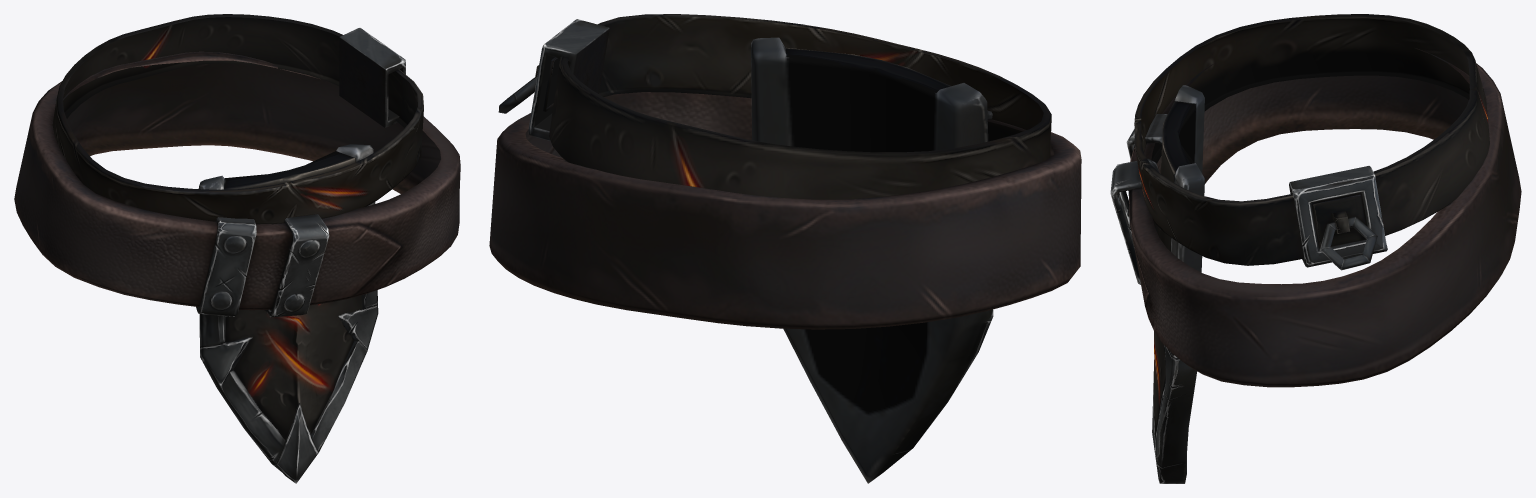
Rendered from SM_ScortchedBelt.gltf.
The picture shows the model from 3 angles, left to right: view 1: azimuth 30°, elevation 25°; view 2: azimuth 150°, elevation 25°; view 3: azimuth 270°, elevation 25°; orthographic projection. The views are drawn at different scales.
Visible parts, largest first — view 1: SM_ScortchedBelt; view 2: SM_ScortchedBelt; view 3: SM_ScortchedBelt.
Part boxes in pixels (x1,y1,x2,y2): SM_ScortchedBelt: (14,14,460,483); SM_ScortchedBelt: (489,14,1081,483); SM_ScortchedBelt: (1110,14,1521,483).
Size of the model in its own units: 0.4393 by 0.3734 by 0.3429.
1 material, 1 textured.
